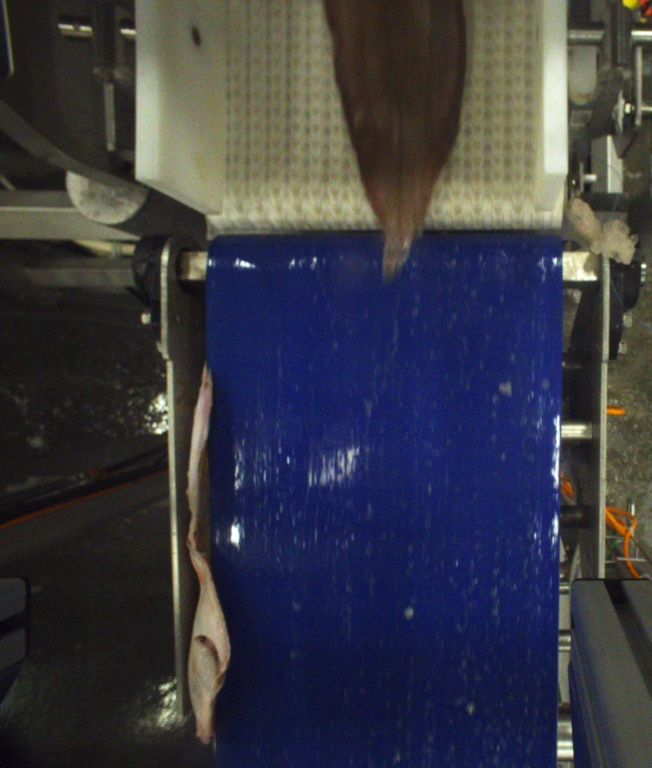SOL: (320, 0, 466, 282)
